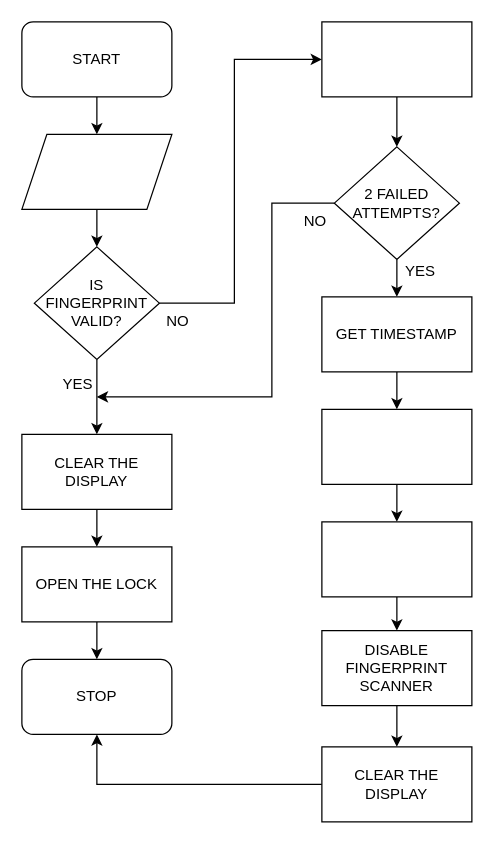
The diagram is 494 pixels wide and 844 high, and some of its shapes have lost their labels. Here are the shapes that lost their labels. From the top down, the centre of each, then its label:
point (396, 59): RETRY FINGERPRINT SCANNING
point (96, 171): GET FINGERPRINT
point (396, 446): DISPLAY "INVALID FINGERPRINT"
point (396, 559): TRIGGER ALARM AND SEND SMS
